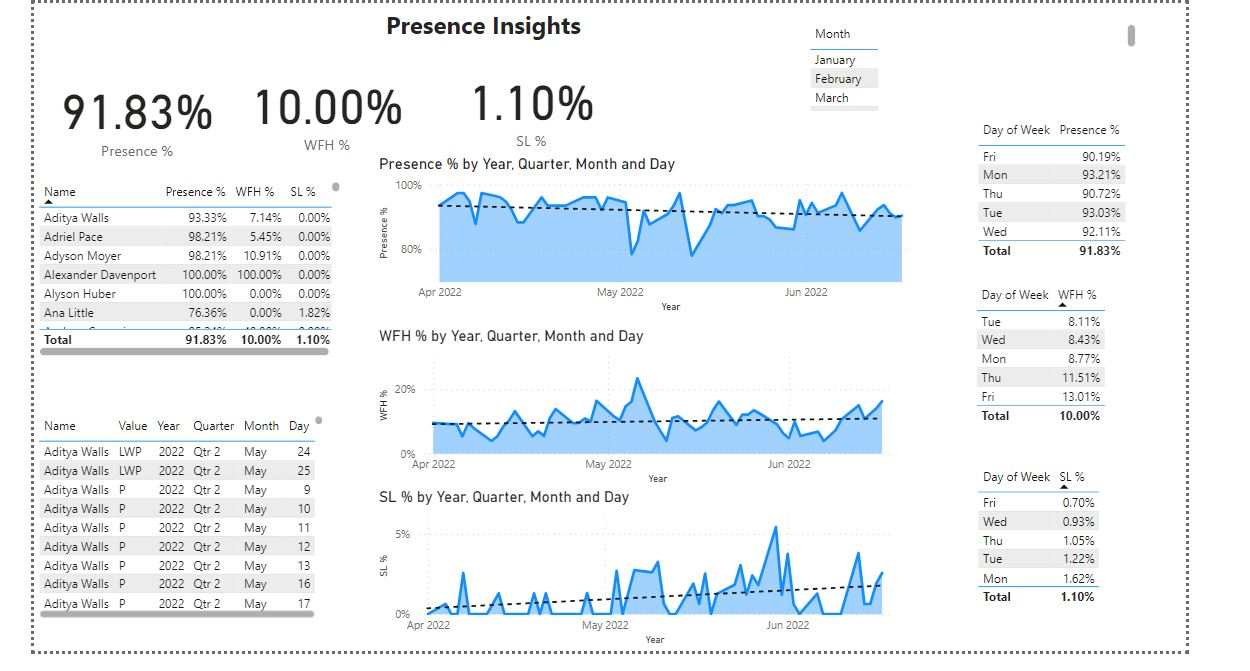

The dashboard page shown, as its layout file describes it:
{"tool":"powerbi","page":{"name":"Presence Overview","canvas":[1280,720],"ordinal":0},"visuals":[{"type":"card","fields":{"Values":["Measure Table.Presence %"]},"box":[0,69.9,228.9,109.7],"z":0},{"type":"card","fields":{"Values":["Measure Table.WFH %"]},"box":[213,69.9,224.1,98.5],"z":1000},{"type":"card","fields":{"Values":["Measure Table.SL %"]},"box":[416.4,62,271.8,106.5],"z":2000},{"type":"tableEx","fields":{"Values":["Final data.Name","Measure Table.Presence %","Measure Table.WFH %","Measure Table.SL %"]},"box":[0,193.9,344.9,203.4],"z":3000},{"type":"textbox","box":[378.3,0,241.6,69.9],"z":4000},{"type":"tableEx","fields":{"Values":["Final data.Name","Final data.Value","Final data.Date.Variation.Date Hierarchy.Year","Final data.Date.Variation.Date Hierarchy.Quarter","Final data.Date.Variation.Date Hierarchy.Month","Final data.Date.Variation.Date Hierarchy.Day"]},"box":[0,453,325.8,235.2],"z":5000},{"type":"areaChart","fields":{"Category":["Final data.Date.Variation.Date Hierarchy.Year","Final data.Date.Variation.Date Hierarchy.Quarter","Final data.Date.Variation.Date Hierarchy.Month","Final data.Date.Variation.Date Hierarchy.Day"],"Y":["Measure Table.Presence %"]},"box":[378.3,168.5,615.1,179.6],"z":6000},{"type":"areaChart","fields":{"Category":["Final data.Date.Variation.Date Hierarchy.Year","Final data.Date.Variation.Date Hierarchy.Quarter","Final data.Date.Variation.Date Hierarchy.Month","Final data.Date.Variation.Date Hierarchy.Day"],"Y":["Measure Table.WFH %"]},"box":[378.3,359.2,592.8,179.6],"z":7000},{"type":"areaChart","fields":{"Category":["Final data.Date.Variation.Date Hierarchy.Year","Final data.Date.Variation.Date Hierarchy.Quarter","Final data.Date.Variation.Date Hierarchy.Month","Final data.Date.Variation.Date Hierarchy.Day"],"Y":["Measure Table.SL %"]},"box":[378.3,538.8,592.8,179.6],"z":8000},{"type":"tableEx","fields":{"Values":["Final data.Month.Variation.Date Hierarchy.Month"]},"box":[856,18,372,106],"z":9000},{"type":"tableEx","fields":{"Values":["Final data.Day of Week","Measure Table.Presence %"]},"box":[1042.6,125.6,211.4,178],"z":10000},{"type":"tableEx","fields":{"Values":["Final data.Day of Week","Measure Table.WFH %"]},"box":[1041.1,308.3,211.4,178],"z":11000},{"type":"tableEx","fields":{"Values":["Final data.Day of Week","Measure Table.SL %"]},"box":[1042.6,510.2,211.4,178],"z":12000}]}

Visuals, with their boxes on the page's 1280x720 design canvas (x1, y1, x2, y2). These are canvas units, not pixel positions in the 1250x671 screenshot, which may show the page scaled, cropped or inside an application window:
card - Measure Table.Presence %: 0,70,229,180
card - Measure Table.WFH %: 213,70,437,168
card - Measure Table.SL %: 416,62,688,168
tableEx - Final data.Name x Measure Table.Presence %: 0,194,345,397
textbox: 378,0,620,70
tableEx - Final data.Name x Final data.Value: 0,453,326,688
areaChart - Final data.Date.Variation.Date Hierarchy.Year x Final data.Date.Variation.Date Hierarchy.Quarter: 378,168,993,348
areaChart - Final data.Date.Variation.Date Hierarchy.Year x Final data.Date.Variation.Date Hierarchy.Quarter: 378,359,971,539
areaChart - Final data.Date.Variation.Date Hierarchy.Year x Final data.Date.Variation.Date Hierarchy.Quarter: 378,539,971,718
tableEx - Final data.Month.Variation.Date Hierarchy.Month: 856,18,1228,124
tableEx - Final data.Day of Week x Measure Table.Presence %: 1043,126,1254,304
tableEx - Final data.Day of Week x Measure Table.WFH %: 1041,308,1252,486
tableEx - Final data.Day of Week x Measure Table.SL %: 1043,510,1254,688
